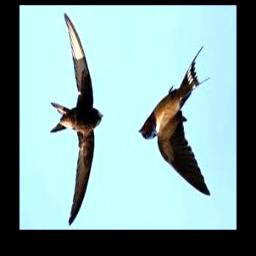Swallow: (50, 13, 103, 225), (138, 47, 210, 196)
